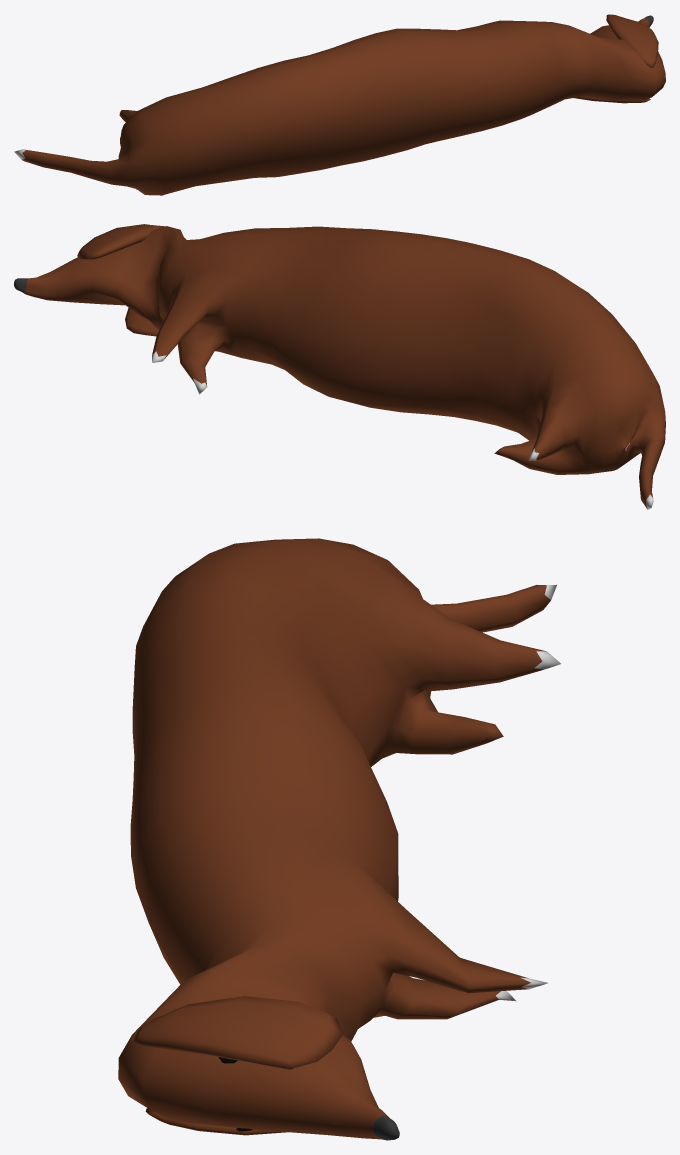
Rendered from ween_medium_sleep.fbx.
3 views of the same model, one above another, from view 1: azimuth 30°, elevation 25°; view 2: azimuth 150°, elevation 25°; view 3: azimuth 270°, elevation 25° (orthographic). The views are drawn at different scales.
Parts seen in each view (by area): view 1: ween_medium_sleep; view 2: ween_medium_sleep; view 3: ween_medium_sleep.
Part boxes in pixels (x1=…): ween_medium_sleep: x1=14, y1=14, x2=665, y2=195; ween_medium_sleep: x1=14, y1=224, x2=665, y2=509; ween_medium_sleep: x1=118, y1=538, x2=560, y2=1140.
Size of the model in its own units: 160 by 500 by 106.
